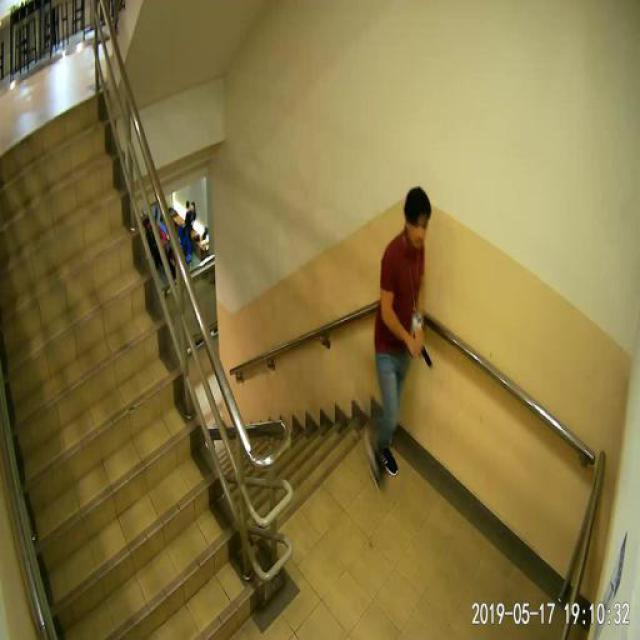weapon: (419, 345, 434, 369)
